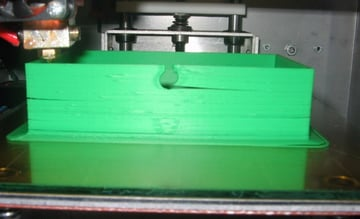crack: (18, 82, 96, 127), (163, 74, 258, 108), (226, 107, 314, 129)
